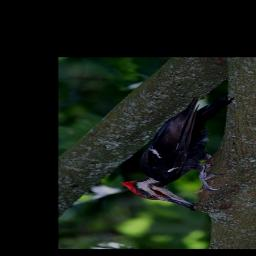Woodpecker: (120, 92, 234, 210)
